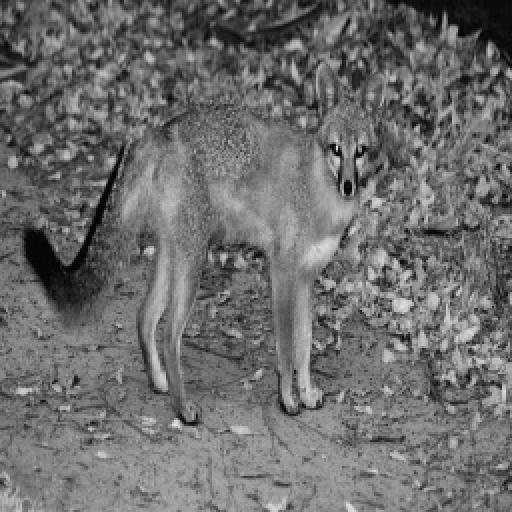zorro: (26, 62, 384, 422)
